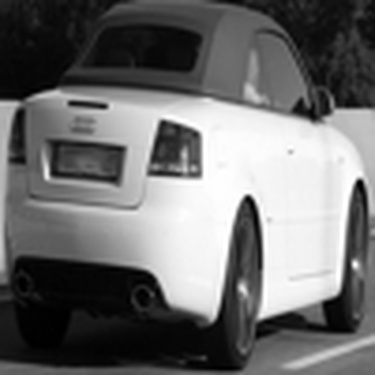car: (1, 2, 371, 371), (4, 85, 32, 298)
